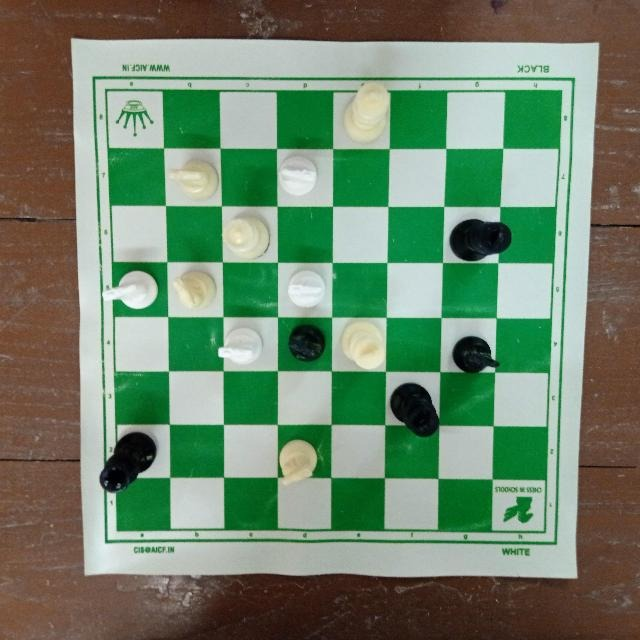black-king: (98, 429, 161, 492), (448, 216, 510, 266), (390, 380, 442, 437)
black-knight: (452, 332, 500, 384), (286, 320, 328, 367)
white-king: (340, 81, 392, 147), (339, 316, 387, 370)
white-knight: (102, 265, 164, 315), (165, 153, 223, 201), (271, 436, 321, 488), (168, 263, 217, 314), (275, 153, 323, 199), (218, 326, 268, 370), (284, 267, 331, 313)
white-queen: (218, 213, 276, 265)
